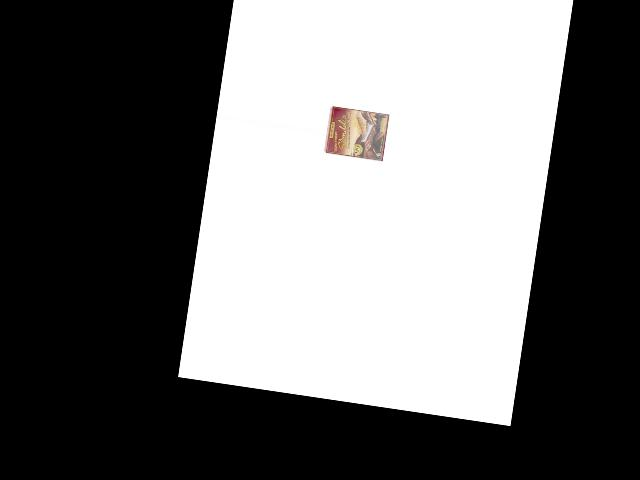chocolate: (323, 106, 389, 161)
